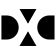DXC: (1, 8, 56, 46)
